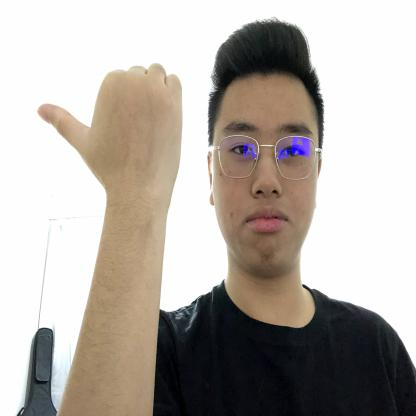right: (38, 61, 185, 220)
